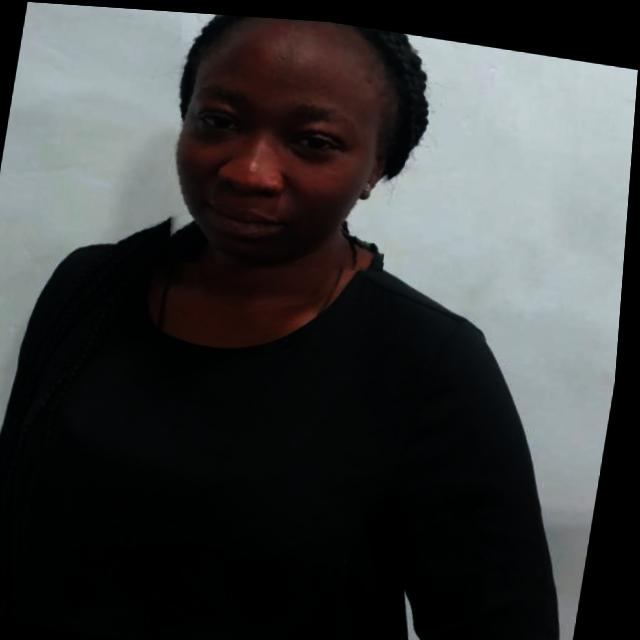sad: (152, 9, 413, 282)
